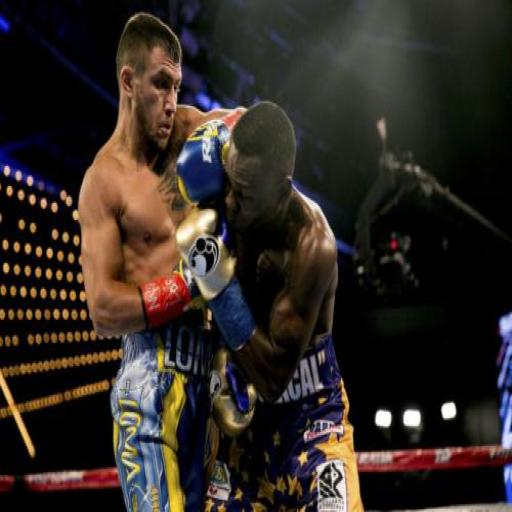boxing: (83, 11, 501, 512)
